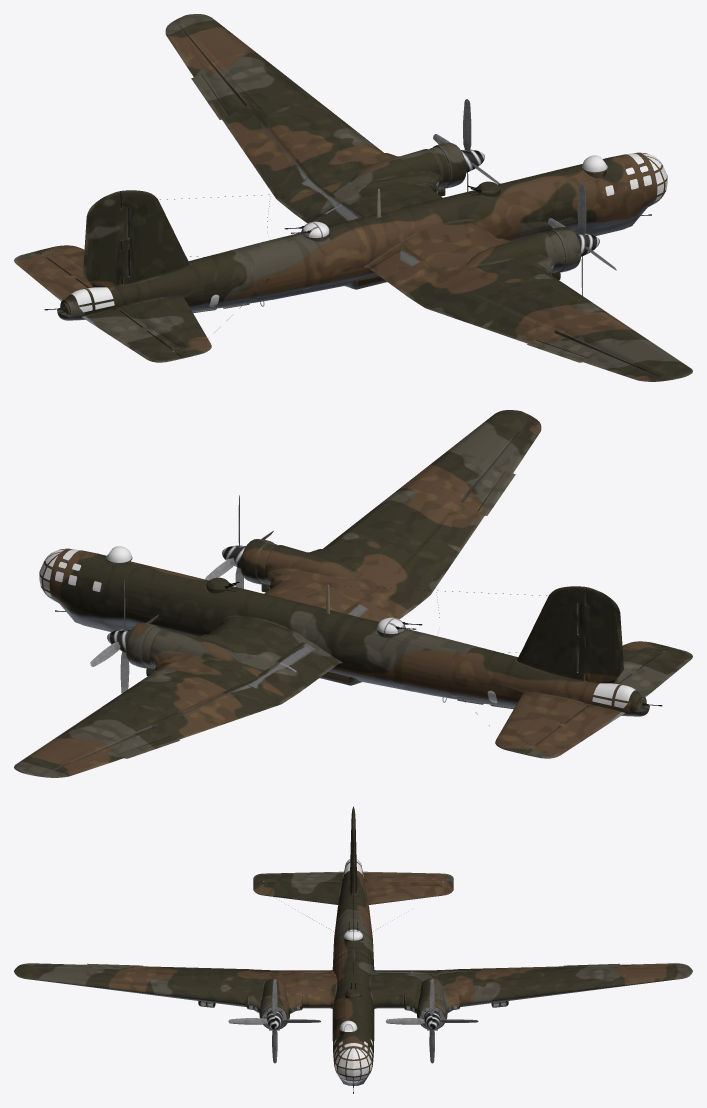
Rendered from fh_battle_bomber_t1.glb.
The picture shows the model from 3 angles, top to bottom: view 1: azimuth 30°, elevation 25°; view 2: azimuth 150°, elevation 25°; view 3: azimuth 270°, elevation 25°; orthographic projection. The views are drawn at different scales.
Parts seen in each view (by area): view 1: fh_battle_bomber_t1; view 2: fh_battle_bomber_t1; view 3: fh_battle_bomber_t1.
Part boxes in pixels (x1,y1,x2,y2): fh_battle_bomber_t1: (14, 14, 692, 381); fh_battle_bomber_t1: (14, 410, 692, 777); fh_battle_bomber_t1: (14, 806, 692, 1093).
Bounding box in the file's own units: 1 × 0.2647 × 1.38.
Materials: 2 (1 with a texture image).
